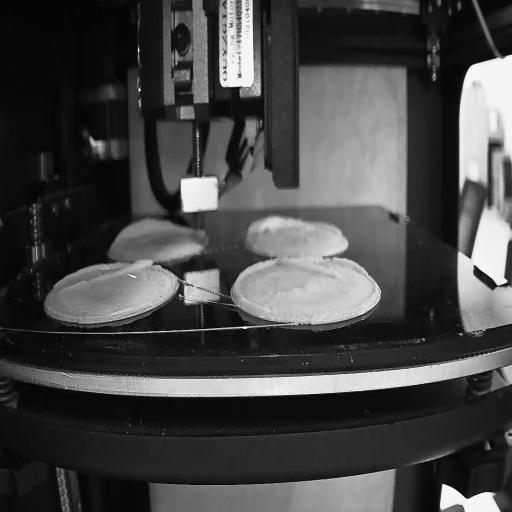over_extrusion: (59, 258, 155, 294), (244, 213, 306, 255), (233, 258, 276, 315), (279, 256, 369, 280), (114, 217, 168, 241)
